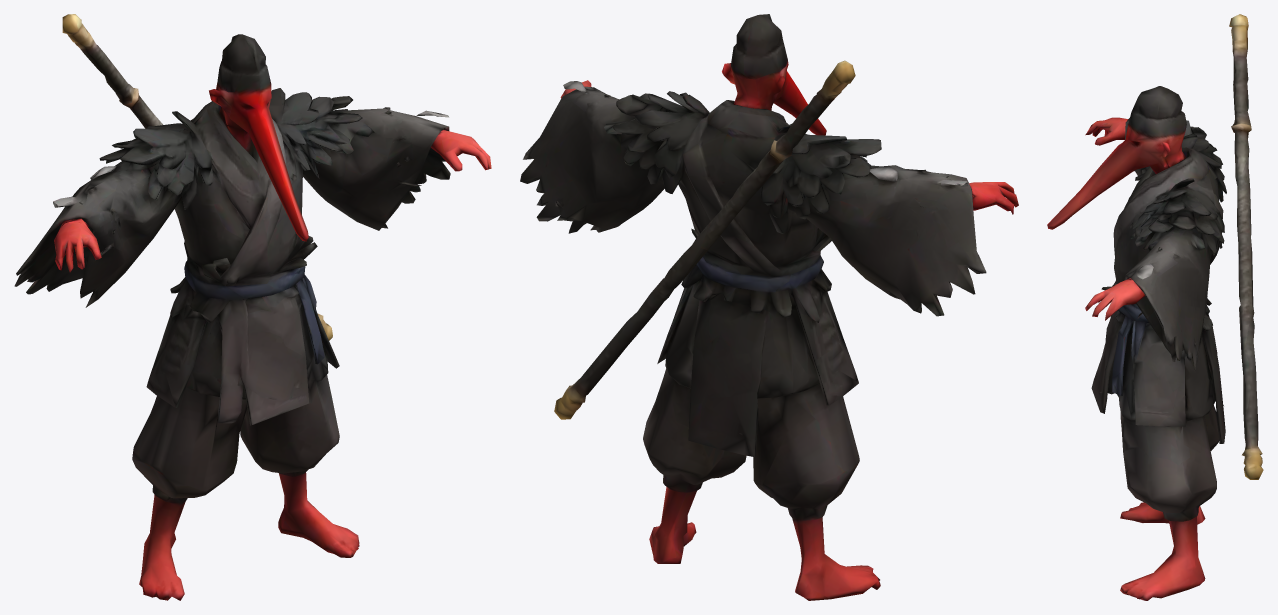
Rendered from y_tengu.glb.
The picture shows the model from 3 angles, left to right: view 1: azimuth 30°, elevation 25°; view 2: azimuth 150°, elevation 25°; view 3: azimuth 270°, elevation 25°; orthographic projection. The views are drawn at different scales.
Visible parts, largest first — view 1: tripo_node_9cceeb4e-e5f7-420b-8b35-e06189490ff7; view 2: tripo_node_9cceeb4e-e5f7-420b-8b35-e06189490ff7; view 3: tripo_node_9cceeb4e-e5f7-420b-8b35-e06189490ff7.
Boxes of the visible parts, x1,y1,x2,y2 form: tripo_node_9cceeb4e-e5f7-420b-8b35-e06189490ff7: [14, 14, 491, 600]; tripo_node_9cceeb4e-e5f7-420b-8b35-e06189490ff7: [520, 14, 1018, 600]; tripo_node_9cceeb4e-e5f7-420b-8b35-e06189490ff7: [1047, 14, 1263, 600].
Size of the model in its own units: 0.8265 by 0.9791 by 0.3946.
1 material, 1 textured.
